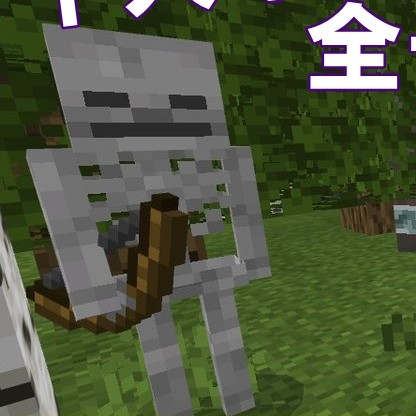skeleton: (21, 16, 268, 217)
